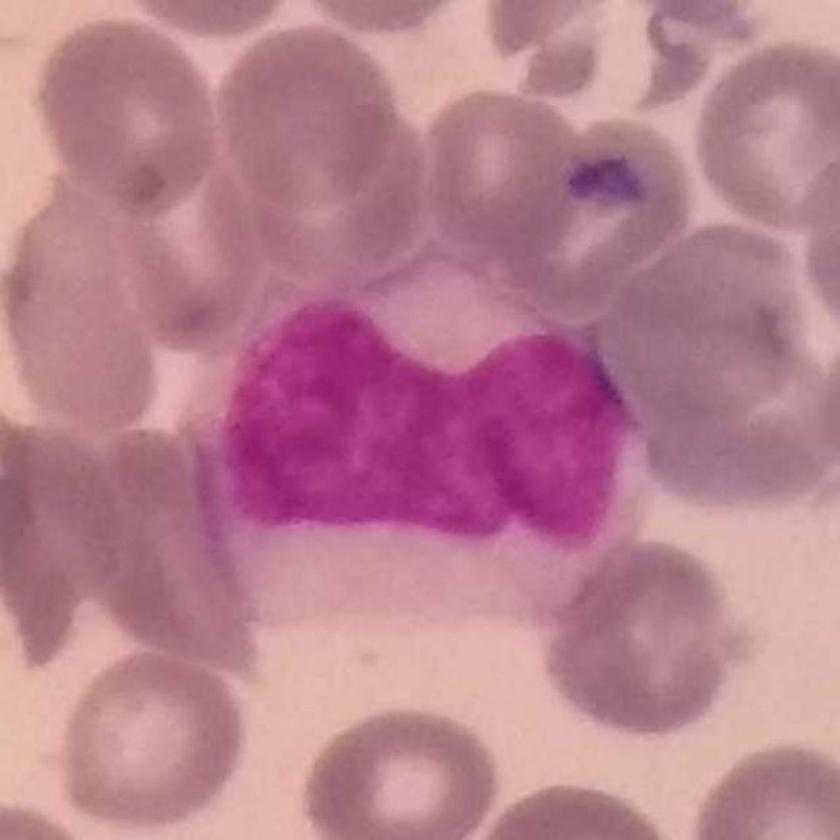monocyte: (173, 233, 657, 627)
